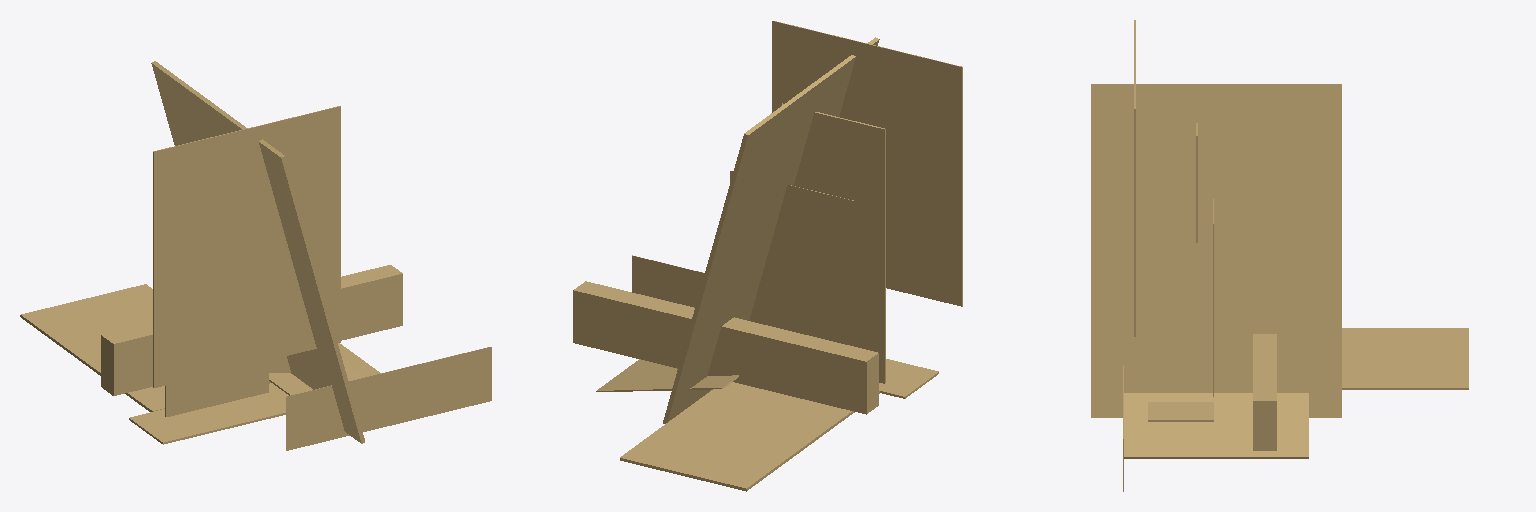
robot.urdf — evolved_design:
<?xml version="1.0" ?>
<robot name="evolved_design">
  <link name="base_link">
    <inertial>
      <mass value="0.001"/>
      <origin xyz="0 0 0" rpy="0 0 0"/>
      <inertia ixx="0.000001" ixy="0" ixz="0" iyy="0.000001" iyz="0" izz="0.000001"/>
    </inertial>
  </link>
  <link name="link_comp_0">
    <inertial>
      <mass value="0.581303"/>
      <origin xyz="0 0 0" rpy="0 0 0"/>
      <inertia ixx="0.000906891" ixy="0" ixz="0" iyy="0.001658730" iyz="0" izz="0.000994048"/>
    </inertial>
    <visual>
      <origin xyz="0 0 0" rpy="0 0 0"/>
      <geometry>
        <box size="0.134240 0.050000 0.127362"/>
      </geometry>
      <material name="link_comp_0_material">
        <color rgba="0.8 0.7 0.5 1"/>
      </material>
    </visual>
    <collision>
      <origin xyz="0 0 0" rpy="0 0 0"/>
      <geometry>
        <box size="0.134240 0.050000 0.127362"/>
      </geometry>
    </collision>
  </link>
  <joint name="base_link_to_link_comp_0" type="fixed">
    <parent link="base_link"/>
    <child link="link_comp_0"/>
    <origin xyz="0.067120 0.025000 0.063681" rpy="0.000000 0.000000 0.000000"/>
  </joint>
  <link name="link_comp_1">
    <inertial>
      <mass value="0.228196"/>
      <origin xyz="0 0 0" rpy="0 0 0"/>
      <inertia ixx="0.000365622" ixy="0" ixz="0" iyy="0.004943317" iyz="0" izz="0.005308082"/>
    </inertial>
    <visual>
      <origin xyz="0 0 0" rpy="0 0 0"/>
      <geometry>
        <box size="0.509832 0.138579 0.004750"/>
      </geometry>
      <material name="link_comp_1_material">
        <color rgba="0.8 0.7 0.5 1"/>
      </material>
    </visual>
    <collision>
      <origin xyz="0 0 0" rpy="0 0 0"/>
      <geometry>
        <box size="0.509832 0.138579 0.004750"/>
      </geometry>
    </collision>
  </link>
  <joint name="base_link_to_link_comp_1" type="fixed">
    <parent link="base_link"/>
    <child link="link_comp_1"/>
    <origin xyz="0.088088 -0.069790 0.056170" rpy="0.000000 0.000000 0.000000"/>
  </joint>
  <link name="link_comp_2">
    <inertial>
      <mass value="0.681705"/>
      <origin xyz="0 0 0" rpy="0 0 0"/>
      <inertia ixx="0.016380963" ixy="0" ixz="0" iyy="0.004913390" iyz="0" izz="0.021289772"/>
    </inertial>
    <visual>
      <origin xyz="0 0 0" rpy="0 0 0"/>
      <geometry>
        <box size="0.294023 0.536947 0.006350"/>
      </geometry>
      <material name="link_comp_2_material">
        <color rgba="0.8 0.7 0.5 1"/>
      </material>
    </visual>
    <collision>
      <origin xyz="0 0 0" rpy="0 0 0"/>
      <geometry>
        <box size="0.294023 0.536947 0.006350"/>
      </geometry>
    </collision>
  </link>
  <joint name="base_link_to_link_comp_2" type="fixed">
    <parent link="base_link"/>
    <child link="link_comp_2"/>
    <origin xyz="0.036494 0.268474 0.056245" rpy="0.000000 0.000000 0.000000"/>
  </joint>
  <link name="link_comp_3">
    <inertial>
      <mass value="0.253974"/>
      <origin xyz="0 0 0" rpy="0 0 0"/>
      <inertia ixx="0.003220805" ixy="0" ixz="0" iyy="0.001924868" iyz="0" izz="0.005145247"/>
    </inertial>
    <visual>
      <origin xyz="0 0 0" rpy="0 0 0"/>
      <geometry>
        <box size="0.301559 0.390089 0.003175"/>
      </geometry>
      <material name="link_comp_3_material">
        <color rgba="0.8 0.7 0.5 1"/>
      </material>
    </visual>
    <collision>
      <origin xyz="0 0 0" rpy="0 0 0"/>
      <geometry>
        <box size="0.301559 0.390089 0.003175"/>
      </geometry>
    </collision>
  </link>
  <joint name="base_link_to_link_comp_3" type="fixed">
    <parent link="base_link"/>
    <child link="link_comp_3"/>
    <origin xyz="0.286042 0.005262 0.049143" rpy="0.000000 0.252251 0.000000"/>
  </joint>
  <link name="link_comp_4">
    <inertial>
      <mass value="2.429465"/>
      <origin xyz="0 0 0" rpy="0 0 0"/>
      <inertia ixx="0.158677460" ixy="0" ixz="0" iyy="0.102332382" iyz="0" izz="0.056381814"/>
    </inertial>
    <visual>
      <origin xyz="0 0 0" rpy="0 0 0"/>
      <geometry>
        <box size="0.009525 0.527636 0.710891"/>
      </geometry>
      <material name="link_comp_4_material">
        <color rgba="0.8 0.7 0.5 1"/>
      </material>
    </visual>
    <collision>
      <origin xyz="0 0 0" rpy="0 0 0"/>
      <geometry>
        <box size="0.009525 0.527636 0.710891"/>
      </geometry>
    </collision>
  </link>
  <joint name="base_link_to_link_comp_4" type="fixed">
    <parent link="base_link"/>
    <child link="link_comp_4"/>
    <origin xyz="0.140025 0.004392 0.355445" rpy="0.000000 -0.268840 0.000000"/>
  </joint>
  <link name="link_comp_5">
    <inertial>
      <mass value="0.040015"/>
      <origin xyz="0 0 0" rpy="0 0 0"/>
      <inertia ixx="0.000049658" ixy="0" ixz="0" iyy="0.000825083" iyz="0" izz="0.000775431"/>
    </inertial>
    <visual>
      <origin xyz="0 0 0" rpy="0 0 0"/>
      <geometry>
        <box size="0.482226 0.001000 0.122029"/>
      </geometry>
      <material name="link_comp_5_material">
        <color rgba="0.8 0.7 0.5 1"/>
      </material>
    </visual>
    <collision>
      <origin xyz="0 0 0" rpy="0 0 0"/>
      <geometry>
        <box size="0.482226 0.001000 0.122029"/>
      </geometry>
    </collision>
  </link>
  <joint name="base_link_to_link_comp_5" type="fixed">
    <parent link="base_link"/>
    <child link="link_comp_5"/>
    <origin xyz="0.332709 -0.190663 0.061014" rpy="0.000000 0.000000 0.000000"/>
  </joint>
  <link name="link_comp_6">
    <inertial>
      <mass value="0.447775"/>
      <origin xyz="0 0 0" rpy="0 0 0"/>
      <inertia ixx="0.012396450" ixy="0" ixz="0" iyy="0.014554545" iyz="0" izz="0.002159779"/>
    </inertial>
    <visual>
      <origin xyz="0 0 0" rpy="0 0 0"/>
      <geometry>
        <box size="0.240536 0.004750 0.576361"/>
      </geometry>
      <material name="link_comp_6_material">
        <color rgba="0.8 0.7 0.5 1"/>
      </material>
    </visual>
    <collision>
      <origin xyz="0 0 0" rpy="0 0 0"/>
      <geometry>
        <box size="0.240536 0.004750 0.576361"/>
      </geometry>
    </collision>
  </link>
  <joint name="base_link_to_link_comp_6" type="fixed">
    <parent link="base_link"/>
    <child link="link_comp_6"/>
    <origin xyz="0.019377 -0.035650 0.333584" rpy="0.000000 0.000000 0.000000"/>
  </joint>
  <link name="link_comp_7">
    <inertial>
      <mass value="0.138134"/>
      <origin xyz="0 0 0" rpy="0 0 0"/>
      <inertia ixx="0.002485547" ixy="0" ixz="0" iyy="0.003432714" iyz="0" izz="0.000947220"/>
    </inertial>
    <visual>
      <origin xyz="0 0 0" rpy="0 0 0"/>
      <geometry>
        <box size="0.286853 0.001524 0.464674"/>
      </geometry>
      <material name="link_comp_7_material">
        <color rgba="0.8 0.7 0.5 1"/>
      </material>
    </visual>
    <collision>
      <origin xyz="0 0 0" rpy="0 0 0"/>
      <geometry>
        <box size="0.286853 0.001524 0.464674"/>
      </geometry>
    </collision>
  </link>
  <joint name="base_link_to_link_comp_7" type="fixed">
    <parent link="base_link"/>
    <child link="link_comp_7"/>
    <origin xyz="0.094326 -0.001262 0.232337" rpy="0.000000 0.000000 0.000000"/>
  </joint>
  <link name="link_comp_8">
    <inertial>
      <mass value="2.698581"/>
      <origin xyz="0 0 0" rpy="0 0 0"/>
      <inertia ixx="0.003634837" ixy="0" ixz="0" iyy="0.106756354" iyz="0" izz="0.104245926"/>
    </inertial>
    <visual>
      <origin xyz="0 0 0" rpy="0 0 0"/>
      <geometry>
        <box size="0.679013 0.050000 0.116890"/>
      </geometry>
      <material name="link_comp_8_material">
        <color rgba="0.8 0.7 0.5 1"/>
      </material>
    </visual>
    <collision>
      <origin xyz="0 0 0" rpy="0 0 0"/>
      <geometry>
        <box size="0.679013 0.050000 0.116890"/>
      </geometry>
    </collision>
  </link>
  <joint name="base_link_to_link_comp_8" type="fixed">
    <parent link="base_link"/>
    <child link="link_comp_8"/>
    <origin xyz="0.184848 0.107249 0.128550" rpy="0.000000 0.000000 0.000000"/>
  </joint>
  <link name="link_comp_9">
    <inertial>
      <mass value="0.362146"/>
      <origin xyz="0 0 0" rpy="0 0 0"/>
      <inertia ixx="0.008486945" ixy="0" ixz="0" iyy="0.014311298" iyz="0" izz="0.005824669"/>
    </inertial>
    <visual>
      <origin xyz="0 0 0" rpy="0 0 0"/>
      <geometry>
        <box size="0.439317 0.002286 0.530298"/>
      </geometry>
      <material name="link_comp_9_material">
        <color rgba="0.8 0.7 0.5 1"/>
      </material>
    </visual>
    <collision>
      <origin xyz="0 0 0" rpy="0 0 0"/>
      <geometry>
        <box size="0.439317 0.002286 0.530298"/>
      </geometry>
    </collision>
  </link>
  <joint name="base_link_to_link_comp_9" type="fixed">
    <parent link="base_link"/>
    <child link="link_comp_9"/>
    <origin xyz="0.015384 -0.166347 0.465321" rpy="0.000000 0.000000 0.000000"/>
  </joint>
</robot>

--- What the picture shows (computed from the rendered views, not written in the file) ---
Views: 3 orthographic renders of the robot side by side, from view 1: azimuth 30°, elevation 25°; view 2: azimuth 150°, elevation 25°; view 3: azimuth 270°, elevation 25°.
Model evolved_design with 11 links and 10 joints (10 fixed), rooted at base_link, posed every joint at zero.
Links seen in each view (by area): view 1: link_comp_9, link_comp_4, link_comp_5, link_comp_8, link_comp_2, link_comp_1, link_comp_6, link_comp_3; view 2: link_comp_9, link_comp_8, link_comp_4, link_comp_2, link_comp_7, link_comp_6, link_comp_5, link_comp_3, link_comp_1; view 3: link_comp_4, link_comp_3, link_comp_2, link_comp_8, link_comp_1, link_comp_9.
Boxes of the visible links, bbox=[...] form: link_comp_9: bbox=[153, 106, 340, 387]; link_comp_4: bbox=[151, 61, 364, 443]; link_comp_5: bbox=[286, 347, 491, 450]; link_comp_8: bbox=[101, 265, 402, 395]; link_comp_2: bbox=[20, 284, 164, 411]; link_comp_1: bbox=[129, 365, 363, 444]; link_comp_6: bbox=[165, 361, 268, 416]; link_comp_3: bbox=[269, 343, 380, 395]; link_comp_9: bbox=[772, 21, 962, 306]; link_comp_8: bbox=[573, 281, 878, 414]; link_comp_4: bbox=[663, 37, 879, 423]; link_comp_2: bbox=[620, 382, 879, 491]; link_comp_7: bbox=[730, 171, 853, 345]; link_comp_6: bbox=[781, 103, 885, 383]; link_comp_5: bbox=[632, 255, 704, 307]; link_comp_3: bbox=[596, 359, 738, 391]; link_comp_1: bbox=[879, 359, 938, 398]; link_comp_4: bbox=[1091, 84, 1341, 417]; link_comp_3: bbox=[1124, 393, 1308, 458]; link_comp_2: bbox=[1342, 328, 1468, 389]; link_comp_8: bbox=[1253, 334, 1276, 450]; link_comp_1: bbox=[1148, 402, 1213, 421]; link_comp_9: bbox=[1134, 20, 1135, 336].
Size in the robot's own frame: 0.7781 by 0.7964 by 0.7305 metres.
Geometry: primitives only (box / cylinder / sphere), no mesh files.